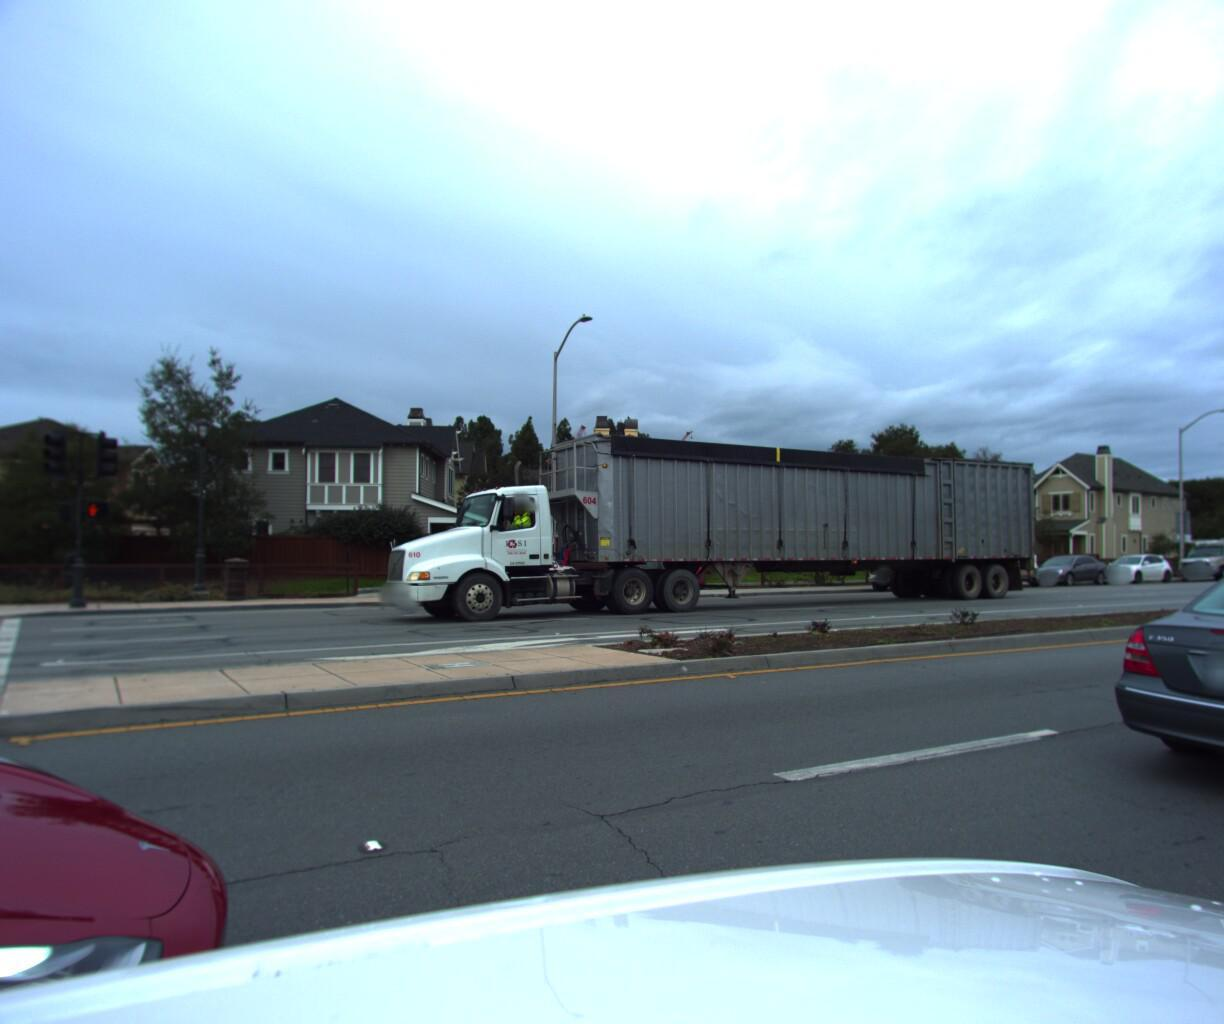car: (1075, 544, 1224, 852), (1013, 550, 1115, 584), (1082, 546, 1176, 582), (1159, 530, 1224, 577)
other_vehicle: (840, 501, 1048, 587)
truck: (361, 391, 1051, 628)
